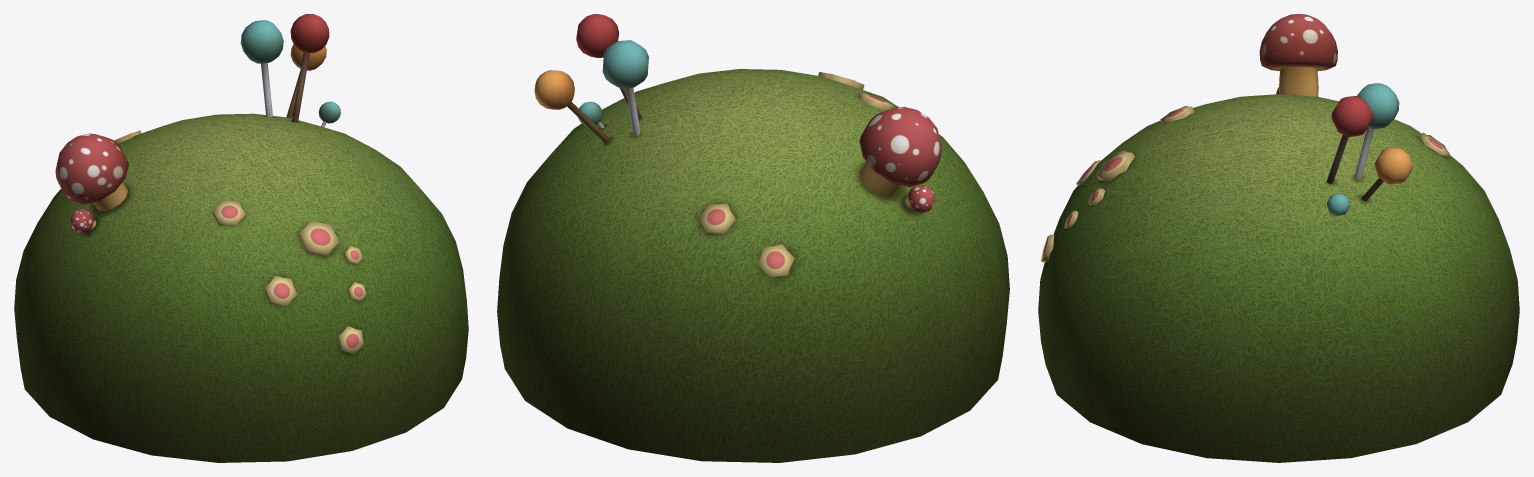
File: M_Miniscene.glb
3 views of the same model, side by side, from view 1: azimuth 30°, elevation 25°; view 2: azimuth 150°, elevation 25°; view 3: azimuth 270°, elevation 25° (orthographic). The views are drawn at different scales.
Parts seen in each view (by area): view 1: SM_Miniscene; view 2: SM_Miniscene; view 3: SM_Miniscene.
Part boxes in pixels (x1=…): SM_Miniscene: x1=14, y1=14, x2=468, y2=462; SM_Miniscene: x1=497, y1=14, x2=1009, y2=462; SM_Miniscene: x1=1038, y1=14, x2=1519, y2=462.
Bounding box in the file's own units: 6.01 × 4.4 × 6.01.
1 material, 1 textured.
